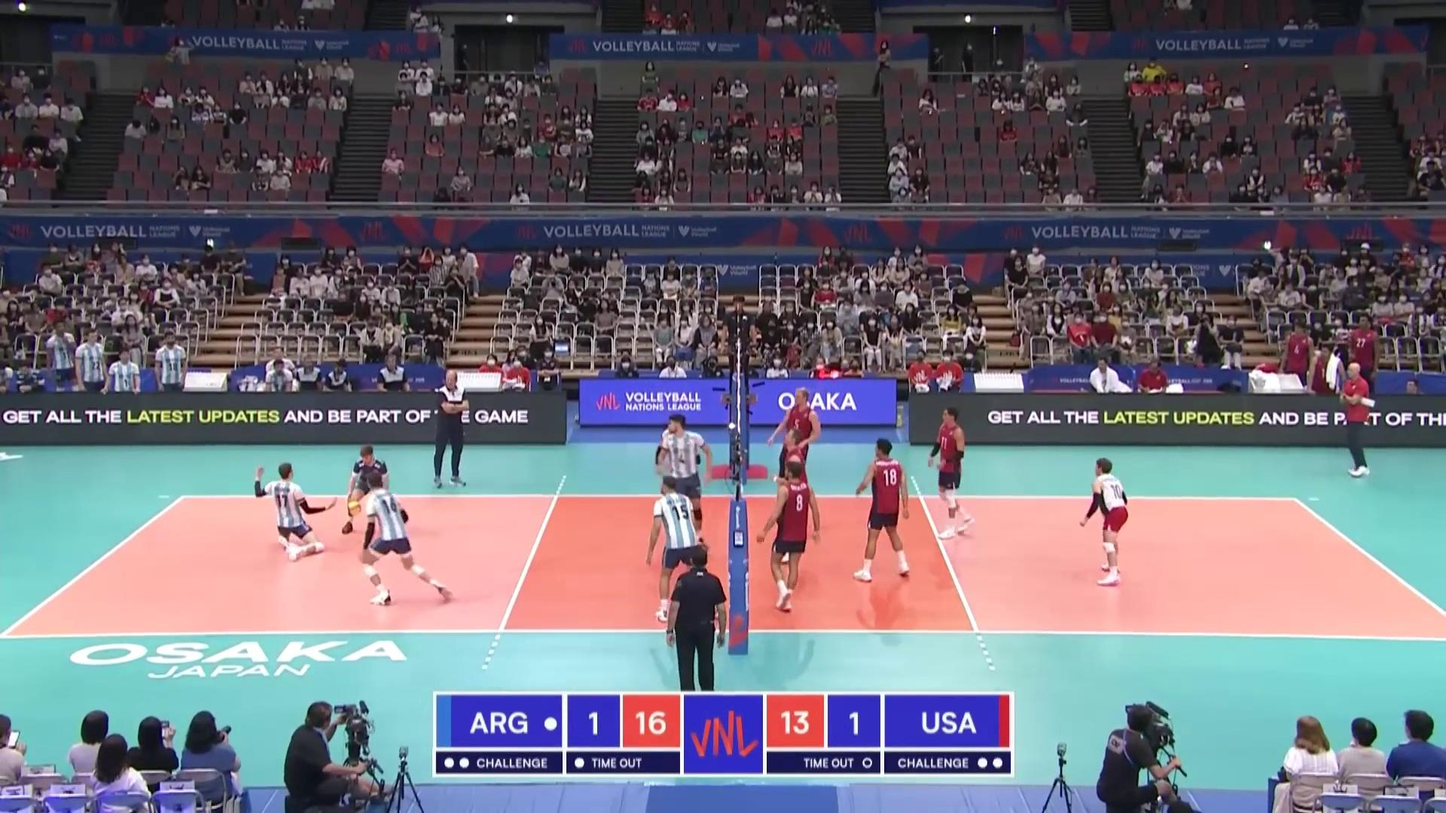player: (352, 479, 449, 609), (759, 463, 819, 615), (850, 438, 910, 579), (649, 478, 704, 619), (657, 415, 710, 550), (255, 464, 328, 562), (1081, 456, 1130, 589), (930, 409, 974, 538), (774, 389, 820, 504), (655, 417, 701, 524), (342, 445, 396, 536), (775, 429, 808, 566)
refree: (654, 547, 724, 690), (717, 295, 753, 400)
